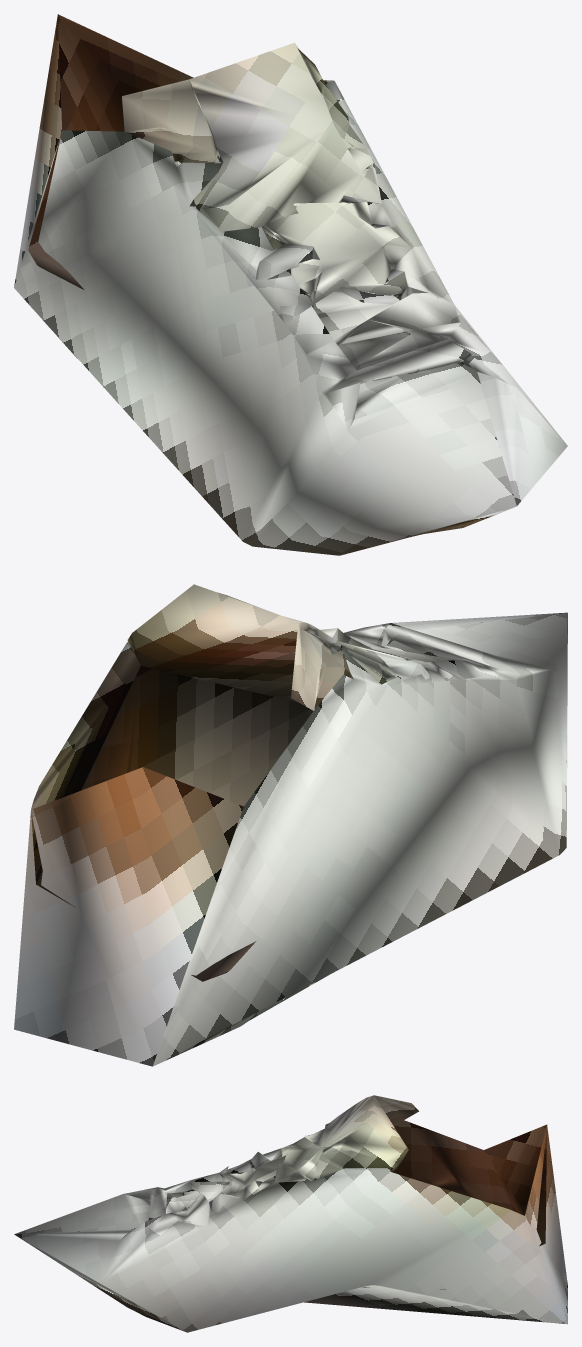
The model's file is Reebok_SH_NEWPORT_LOW-low.glb.
The picture shows the model from 3 angles, top to bottom: view 1: azimuth 30°, elevation 25°; view 2: azimuth 150°, elevation 25°; view 3: azimuth 270°, elevation 25°; orthographic projection. The views are drawn at different scales.
Parts seen in each view (by area): view 1: Reebok_SH_NEWPORT_LOW; view 2: Reebok_SH_NEWPORT_LOW; view 3: Reebok_SH_NEWPORT_LOW.
Part boxes in pixels (x1,y1,x2,y2): Reebok_SH_NEWPORT_LOW: (14,14,567,555); Reebok_SH_NEWPORT_LOW: (14,584,567,1066); Reebok_SH_NEWPORT_LOW: (14,1095,567,1332).
Bounding box in the file's own units: 0.0929 × 0.1144 × 0.274.
1 material, 1 textured.
